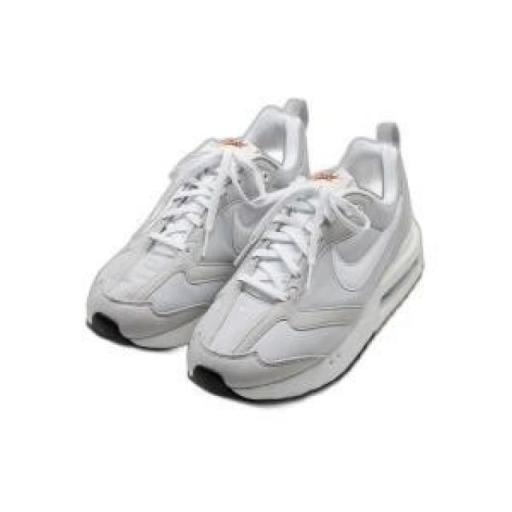Nike: (330, 196, 408, 295)
